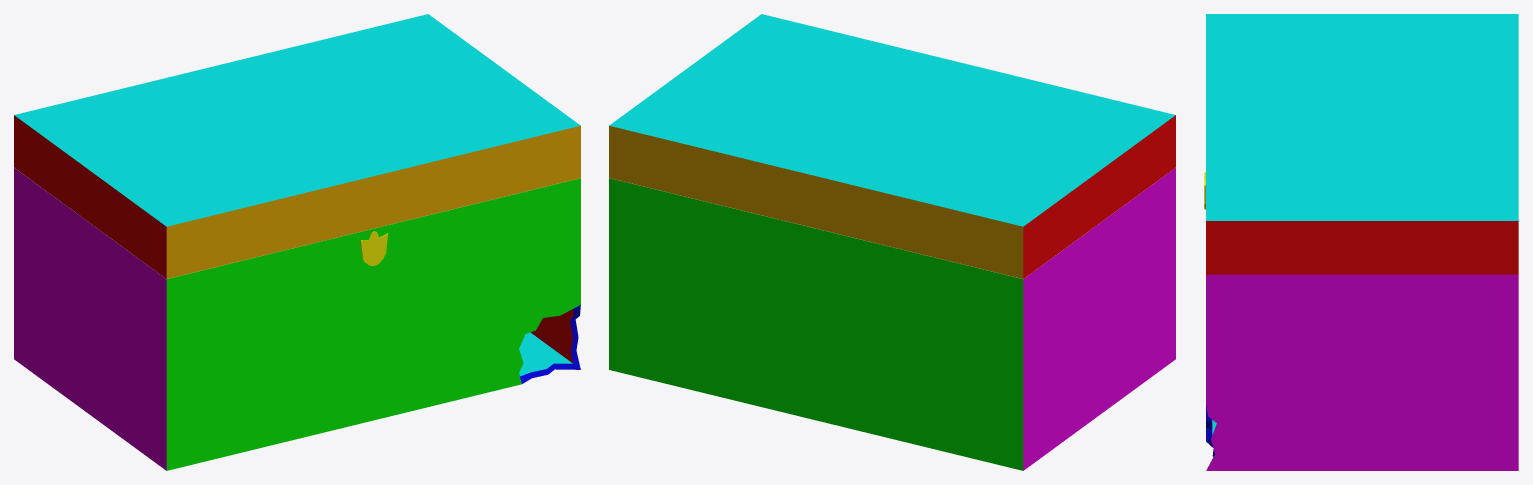
File: IDS_COFRE_2.fbx
3 renders of one model, left to right at view 1: azimuth 30°, elevation 25°; view 2: azimuth 150°, elevation 25°; view 3: azimuth 270°, elevation 25°, orthographic. The views are drawn at different scales.
Visible parts, largest first — view 1: polySurface1; view 2: polySurface1; view 3: polySurface1.
Boxes of the visible parts, x1,y1,x2,y2 form: polySurface1: (14,14,580,470); polySurface1: (609,14,1175,470); polySurface1: (1204,14,1518,470).
Size of the model in its own units: 53.22 by 29.98 by 34.13.
